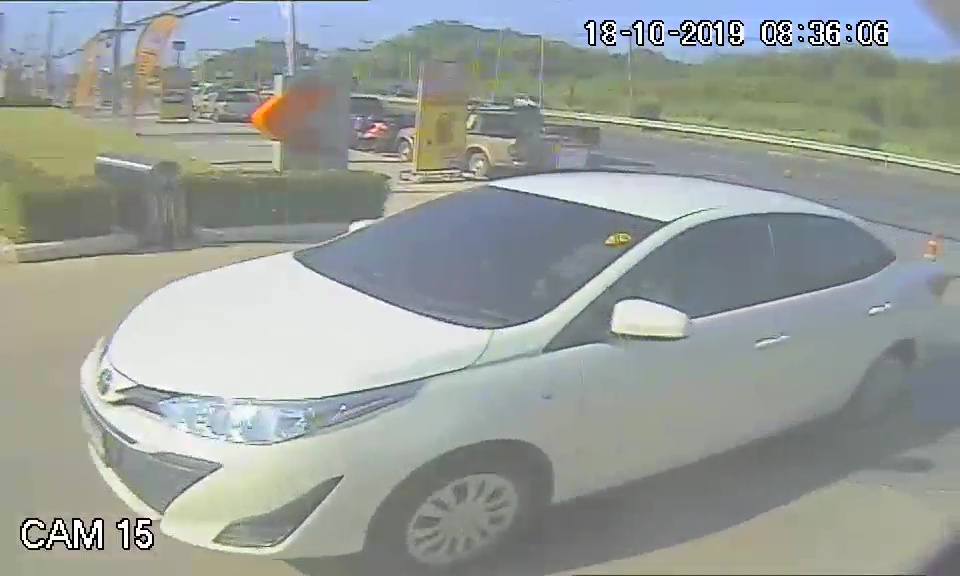sedan: (75, 170, 857, 549)
